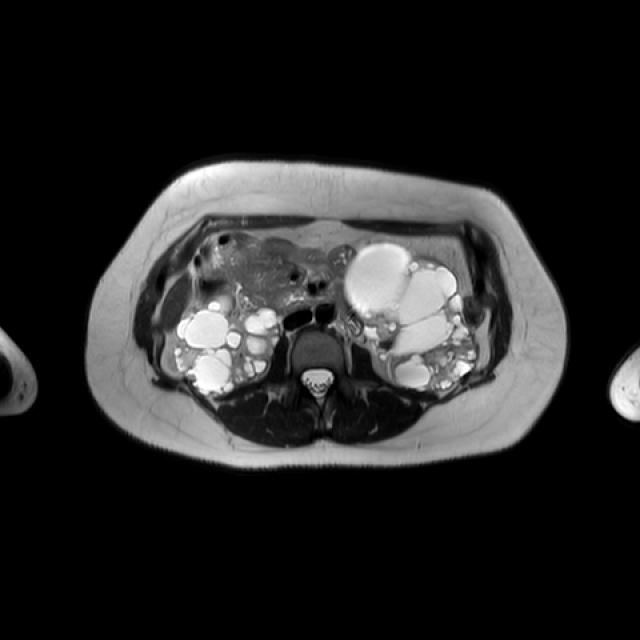sag: (174, 294, 284, 394)
sol: (346, 244, 480, 389)
